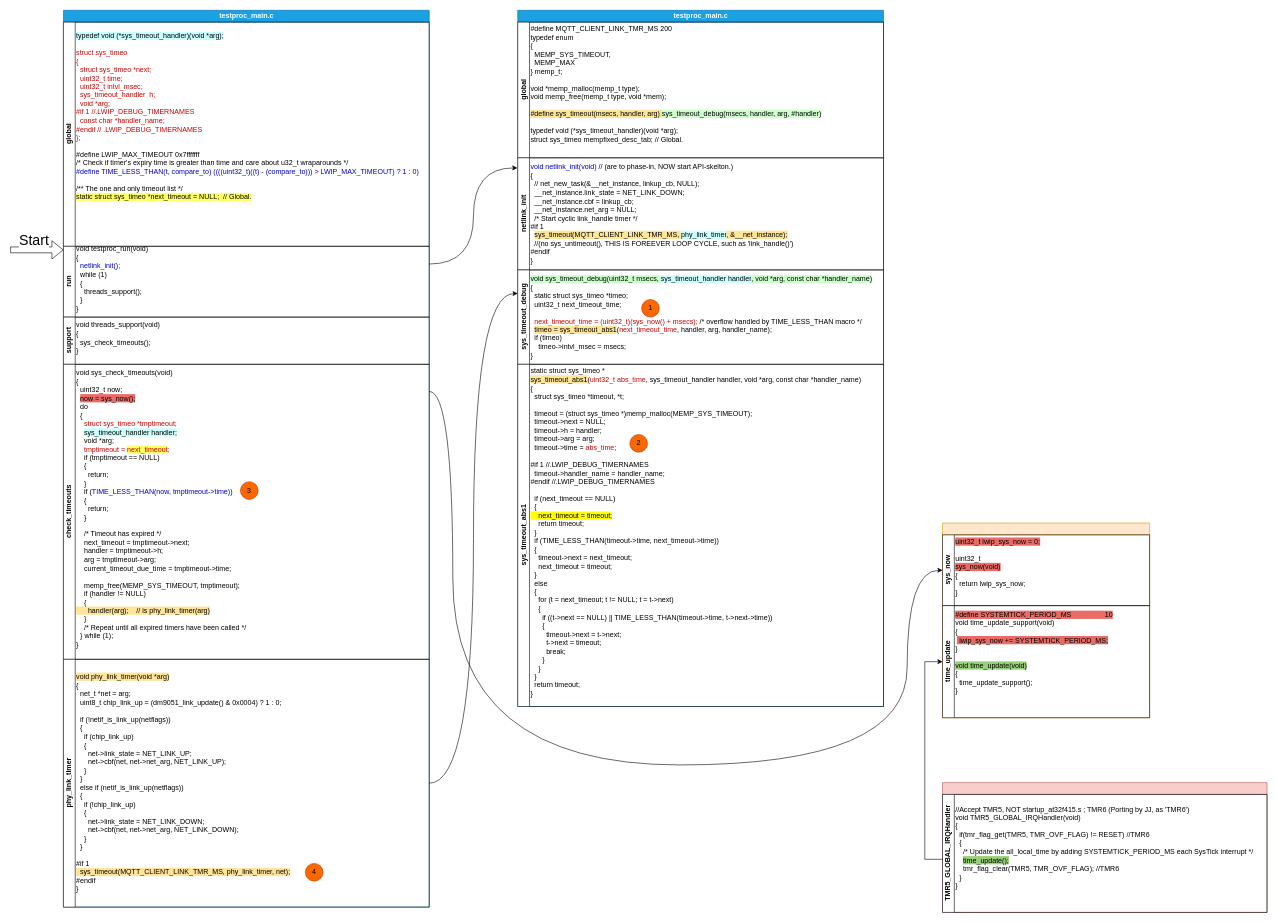
Image size: 1277x923. Some labels were removed from this diagram. Each missing label, with the box of its shape:
at32f403a_407_int.c: (942, 782, 1267, 912)
tmr_init.c: (942, 522, 1150, 718)
